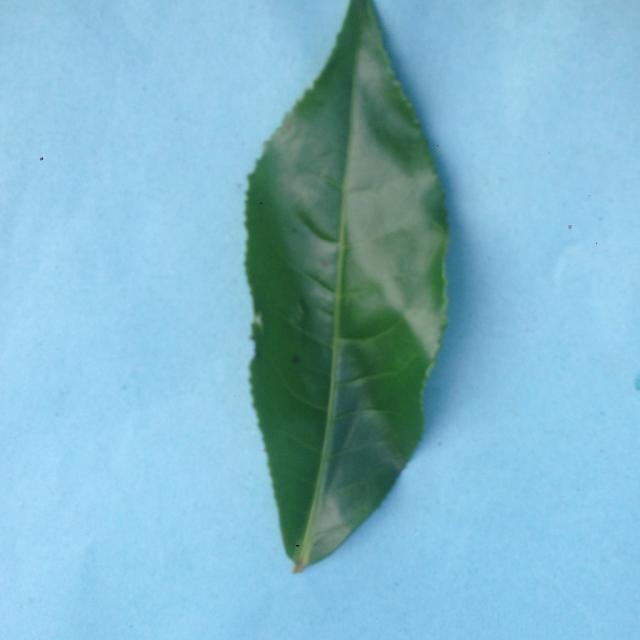Healthy: (206, 0, 473, 587)
